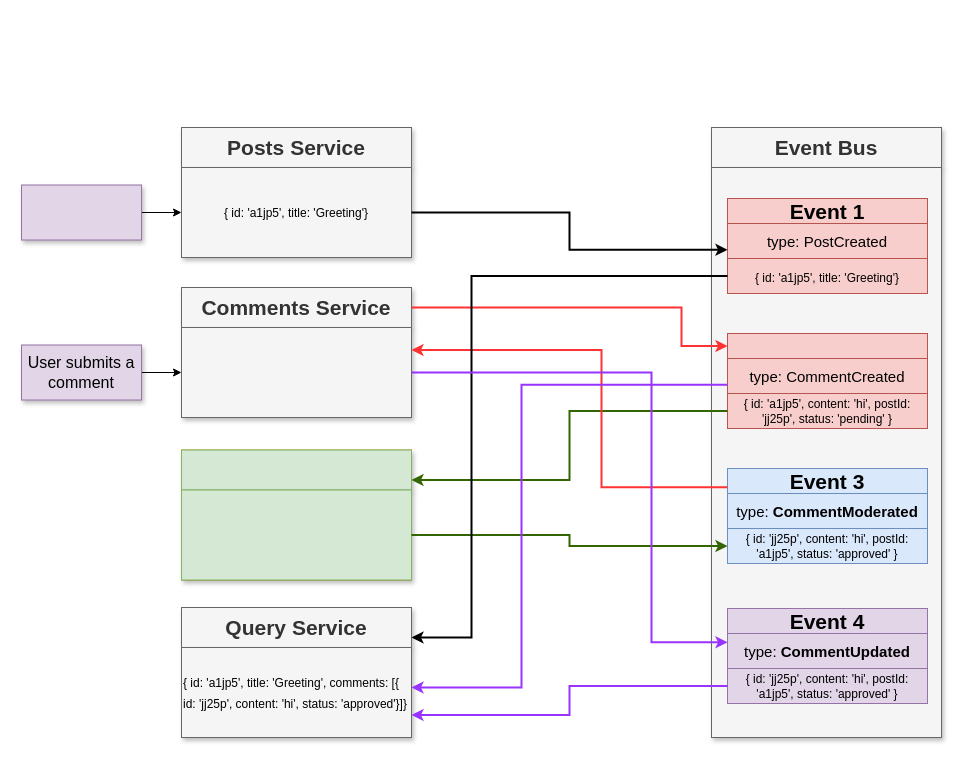
Image size: 965x774. Some labels were removed from this diagram. Each missing label, with the centre of its shape:
"Event 2" goes at point 827,345.
"Moderation Service" goes at point 297,471.
"User submits a post" goes at point 82,213.
"{ id: ' jj25p ', content: 'hi', postId: ' a1jp5 ', status: 'pending' }" goes at point 297,373.
